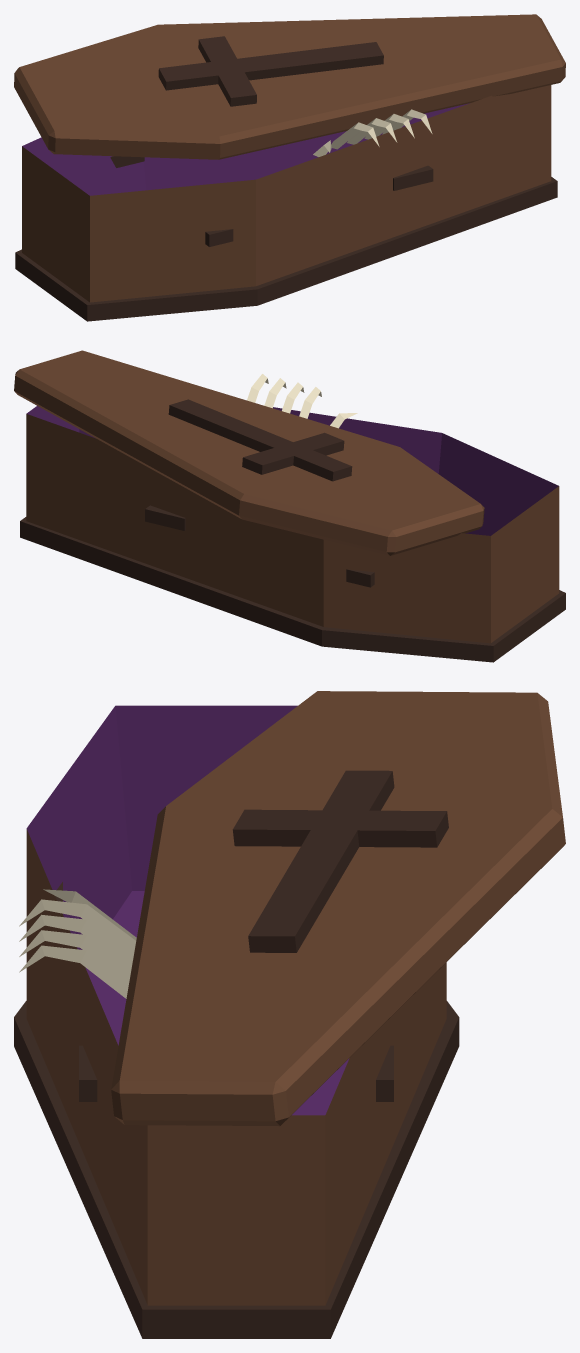
File: coffin.glb
The picture shows the model from 3 angles, top to bottom: view 1: azimuth 30°, elevation 25°; view 2: azimuth 150°, elevation 25°; view 3: azimuth 270°, elevation 25°; orthographic projection. The views are drawn at different scales.
Visible parts, largest first — view 1: coffin; view 2: coffin; view 3: coffin.
Part boxes in pixels (left/top/right/bottom): coffin: left=14, top=14, right=565, bottom=321; coffin: left=14, top=350, right=565, bottom=662; coffin: left=14, top=691, right=565, bottom=1338.
Size of the model in its own units: 1.28 by 0.3956 by 0.6833.
